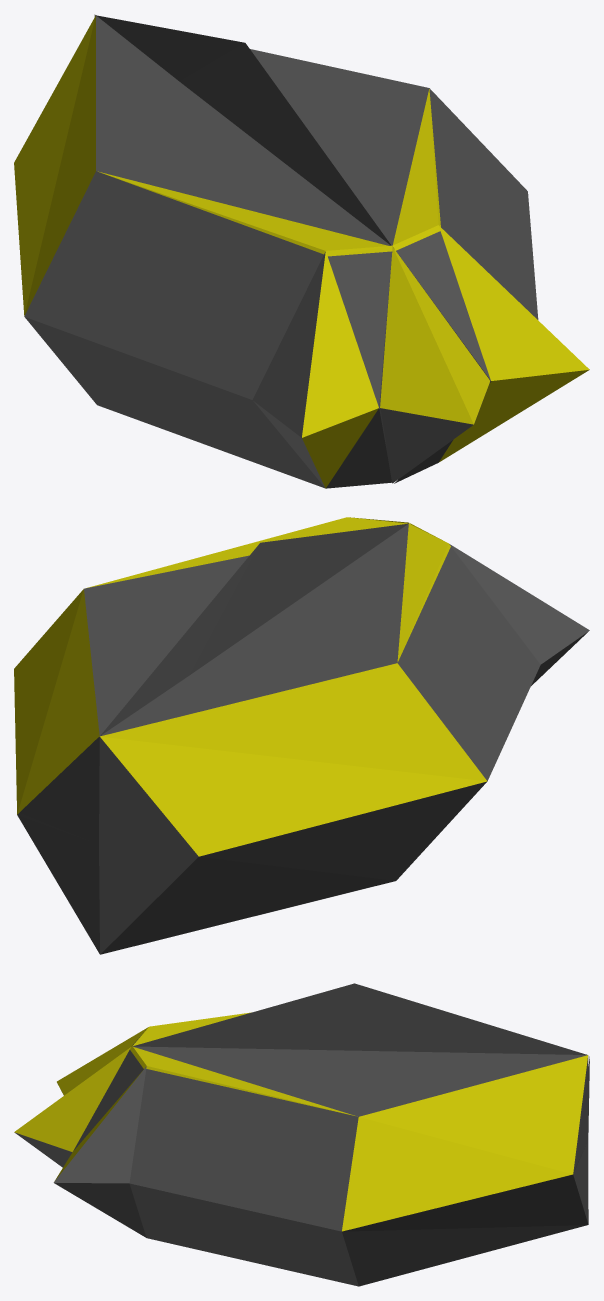
Rendered from NormalShip.fbx.
The picture shows the model from 3 angles, top to bottom: view 1: azimuth 30°, elevation 25°; view 2: azimuth 150°, elevation 25°; view 3: azimuth 270°, elevation 25°; orthographic projection. The views are drawn at different scales.
Visible parts, largest first — view 1: group1_pPyramid3; view 2: group1_pPyramid3; view 3: group1_pPyramid3.
Boxes of the visible parts, <box> form: group1_pPyramid3: <box>14,14,589,488</box>; group1_pPyramid3: <box>14,517,589,954</box>; group1_pPyramid3: <box>14,983,589,1286</box>.
Size of the model in its own units: 5.08 by 3.14 by 6.9.
